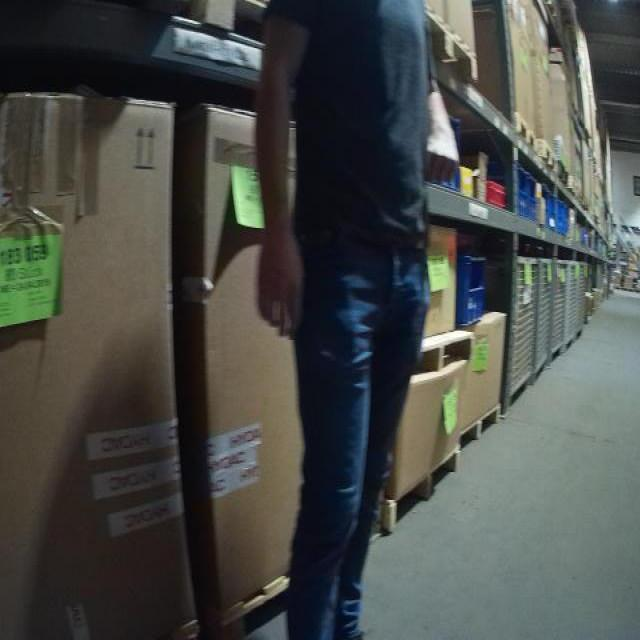pallet: (380, 440, 463, 545), (401, 8, 480, 81), (395, 323, 476, 387), (209, 585, 283, 633), (458, 397, 507, 452), (513, 114, 540, 163), (540, 138, 558, 174)
small_load_carrier: (425, 109, 465, 192), (454, 250, 492, 337), (478, 158, 528, 220), (525, 160, 538, 227), (540, 185, 554, 232), (560, 192, 569, 237), (553, 194, 562, 238)
stillage: (490, 253, 541, 416), (531, 255, 556, 386), (547, 261, 571, 367), (565, 259, 581, 353), (578, 261, 590, 337), (586, 258, 594, 329)
